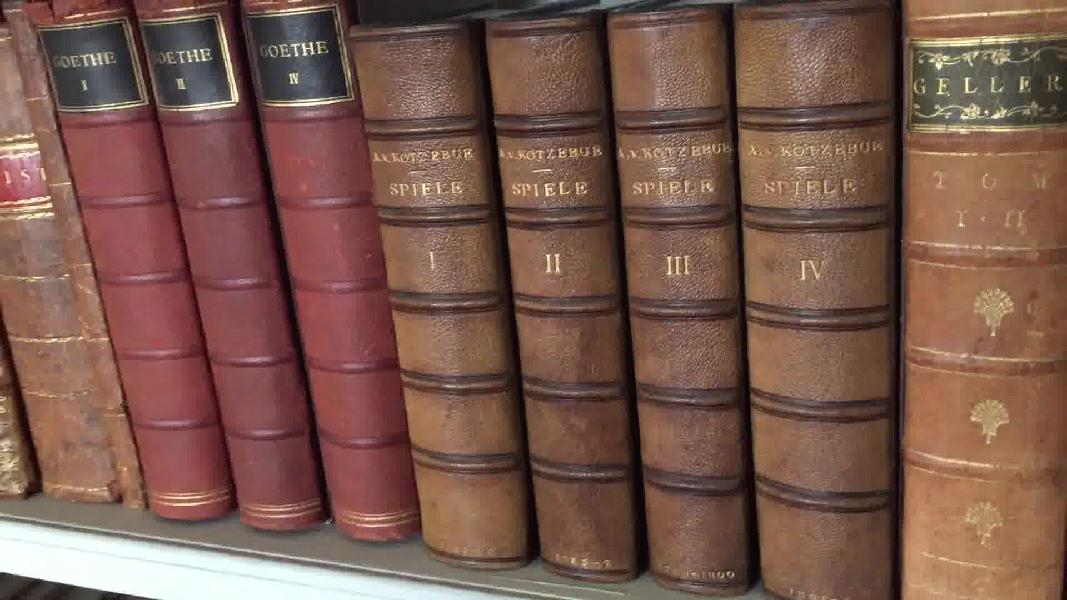Aa6-11_13: (28, 1, 429, 536)
Aa6-14_17: (332, 13, 896, 600)
